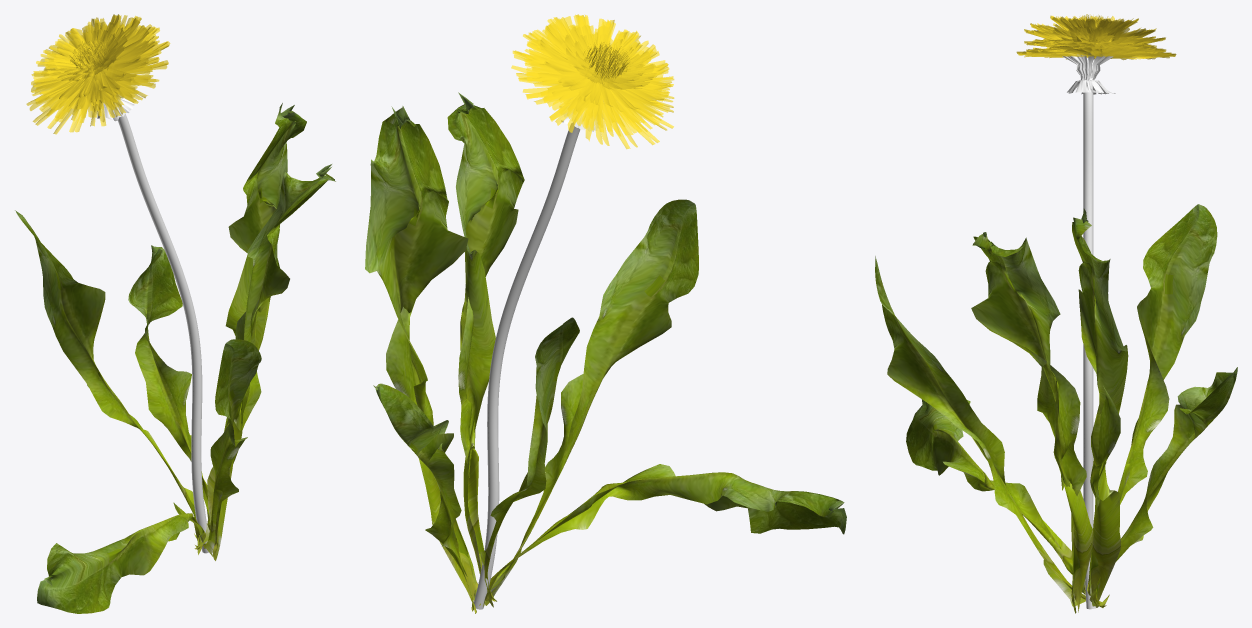
File: dandelion.glb
3 views of the same model, side by side, from view 1: azimuth 30°, elevation 25°; view 2: azimuth 150°, elevation 25°; view 3: azimuth 270°, elevation 25° (orthographic). The views are drawn at different scales.
Parts seen in each view (by area): view 1: Dandelion Set; view 2: Dandelion Set; view 3: Dandelion Set.
Part boxes in pixels (<box>): Dandelion Set: <box>15,14,335,613</box>; Dandelion Set: <box>365,14,846,613</box>; Dandelion Set: <box>875,14,1237,613</box>.
Bounding box in the file's own units: 0.3291 × 0.5026 × 0.2982.
Materials: 4 (1 with a texture image).
